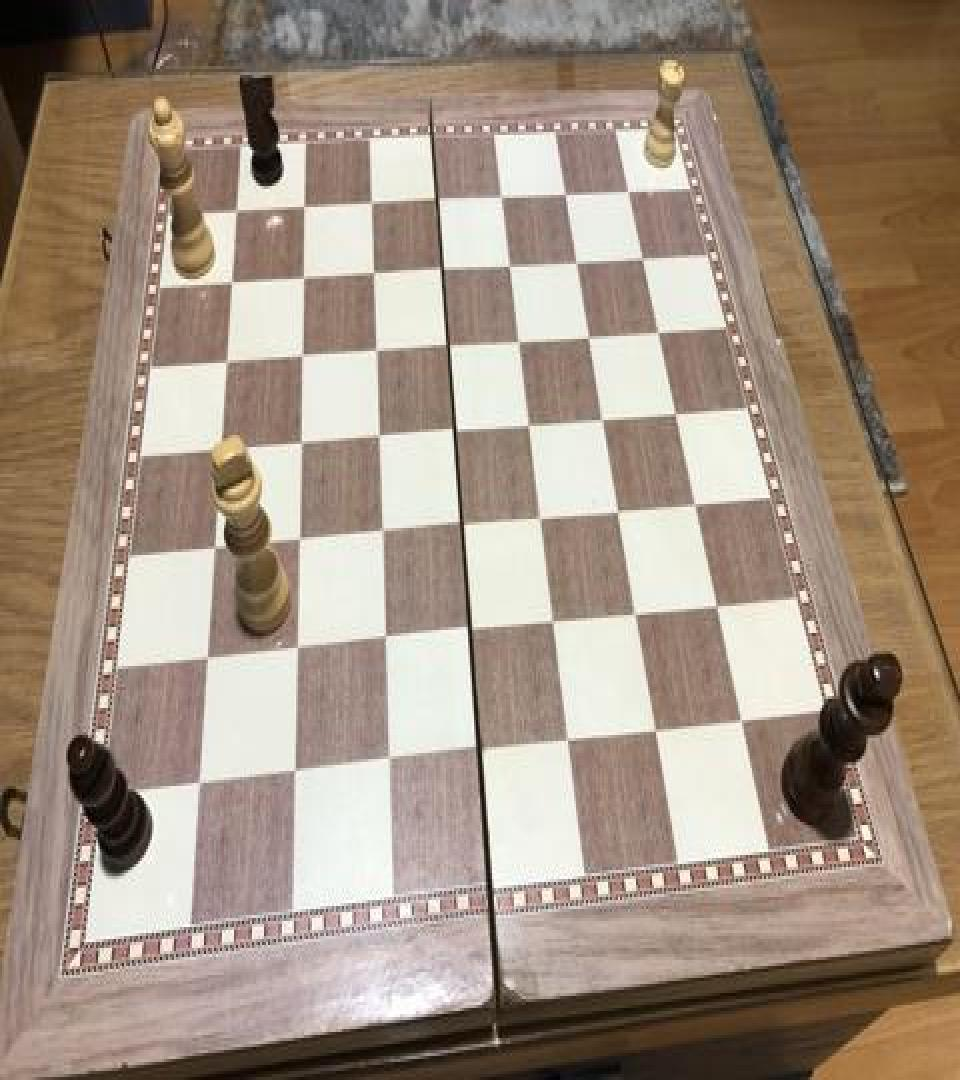xcorner: (458, 616, 482, 653), (372, 625, 396, 662), (186, 769, 210, 806), (617, 178, 641, 214), (554, 182, 578, 218), (490, 184, 514, 220), (359, 190, 383, 226), (292, 194, 316, 230), (223, 196, 247, 232), (631, 246, 655, 282), (566, 249, 590, 285), (499, 254, 523, 290), (431, 256, 455, 292), (291, 264, 315, 300), (218, 267, 242, 303), (647, 320, 671, 356), (578, 324, 602, 360), (437, 333, 461, 369), (364, 338, 388, 374), (289, 342, 313, 378), (213, 346, 237, 382), (664, 400, 688, 436), (592, 406, 616, 442), (443, 417, 467, 453), (366, 423, 390, 459), (288, 429, 312, 465), (208, 435, 232, 471), (683, 490, 707, 526), (607, 498, 631, 534), (529, 504, 553, 540), (450, 512, 474, 548), (369, 519, 393, 555), (286, 526, 310, 562), (201, 534, 225, 570), (704, 592, 728, 628), (624, 600, 648, 636), (542, 609, 566, 645), (284, 634, 308, 670), (194, 644, 218, 680), (728, 705, 752, 741), (643, 716, 667, 752), (556, 724, 580, 760), (467, 735, 491, 771), (376, 747, 400, 783), (282, 758, 306, 794), (425, 188, 449, 223), (361, 260, 385, 295), (508, 329, 532, 364), (518, 413, 542, 448)
